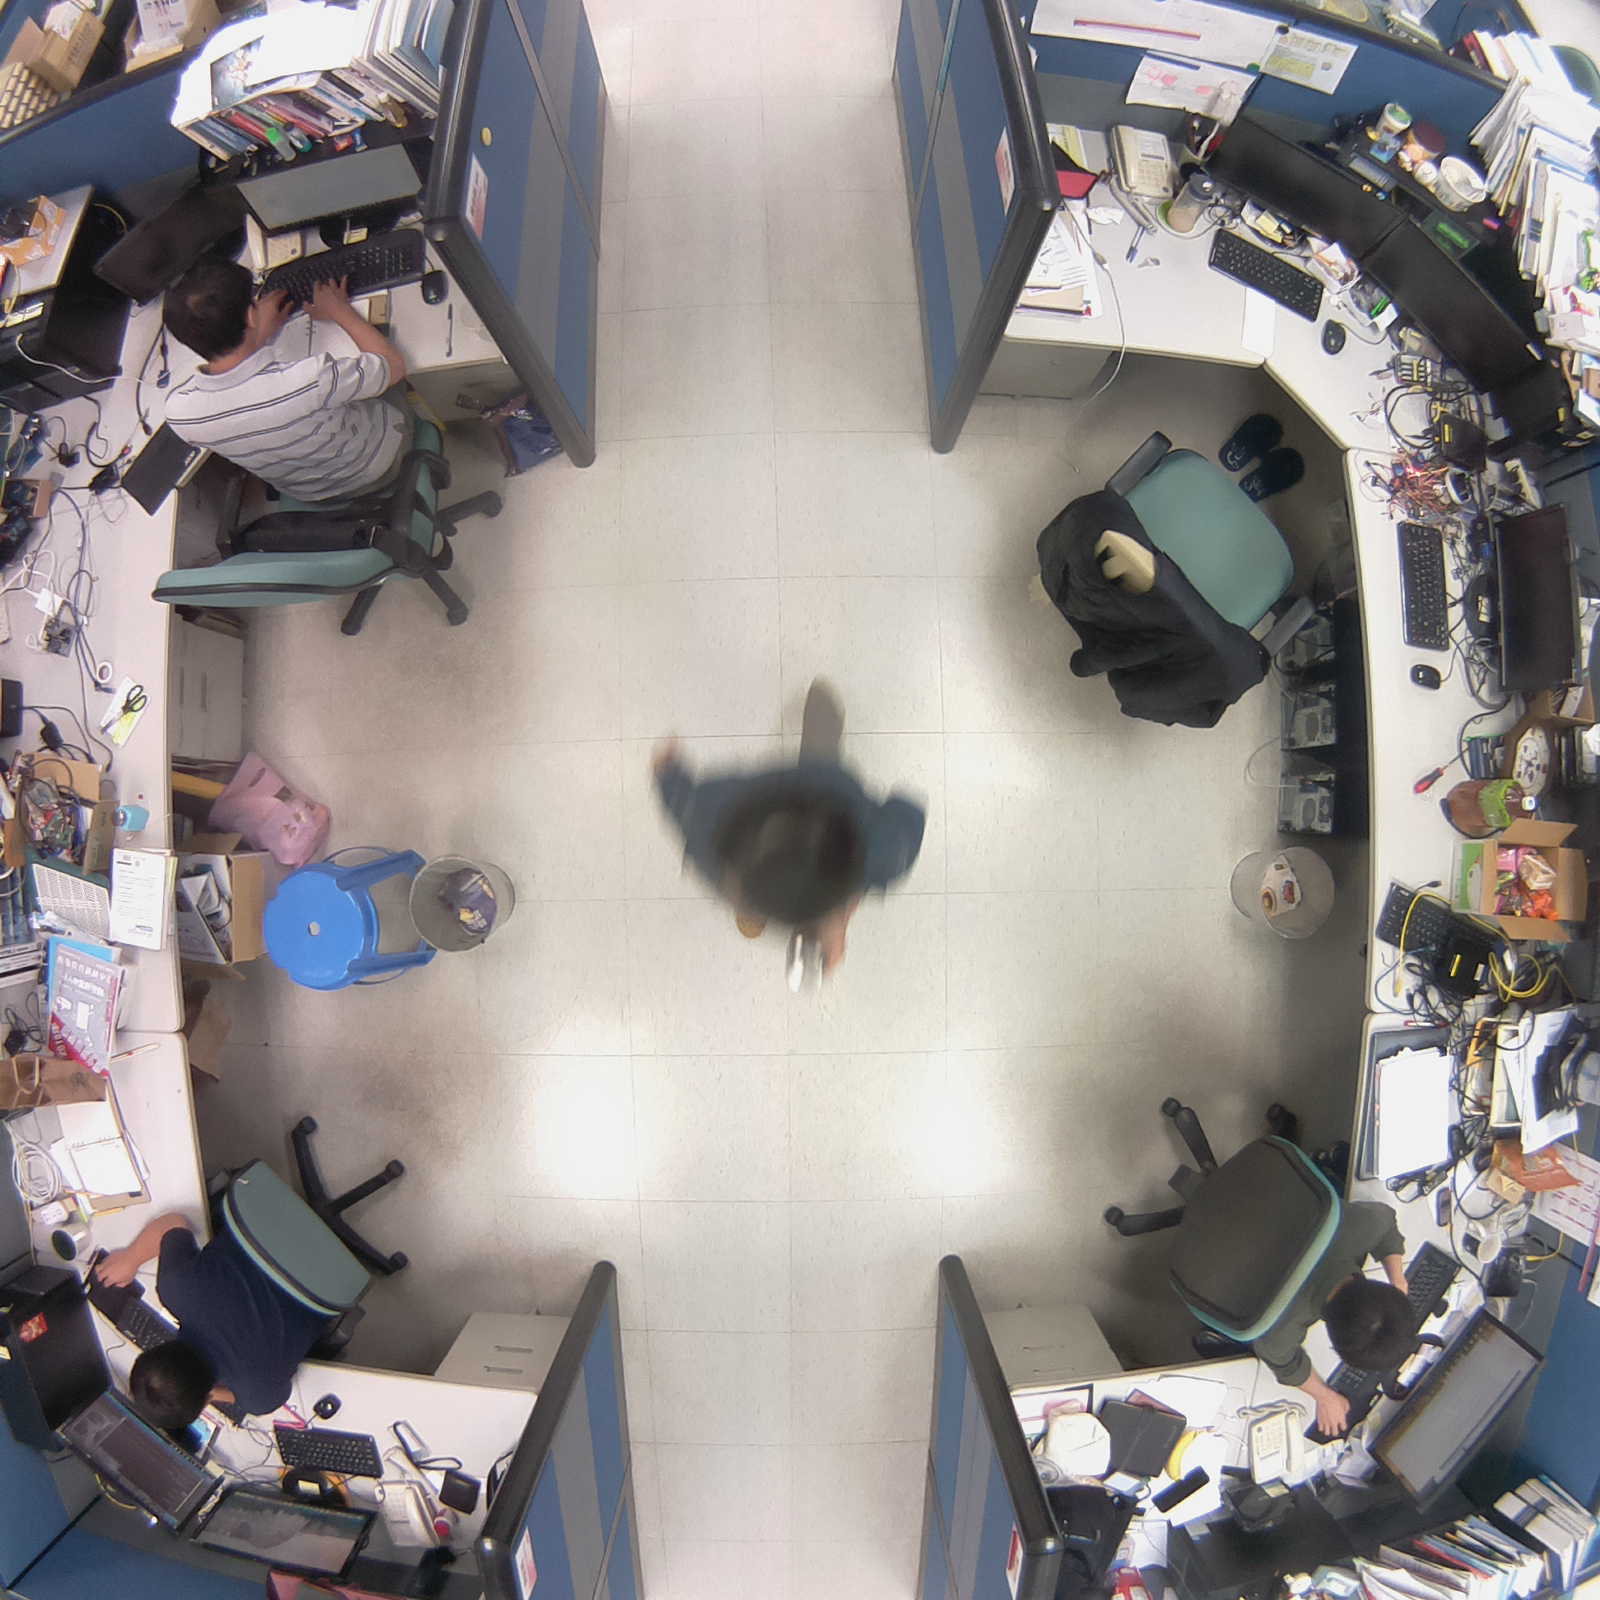chair: (999, 406, 1322, 752)
head: (705, 774, 883, 953), (155, 255, 264, 361), (1326, 1267, 1424, 1380), (120, 1336, 220, 1440)
sitting: (79, 1124, 704, 1435), (130, 246, 524, 668), (1094, 1075, 1453, 1452)
walking: (616, 671, 933, 997)
